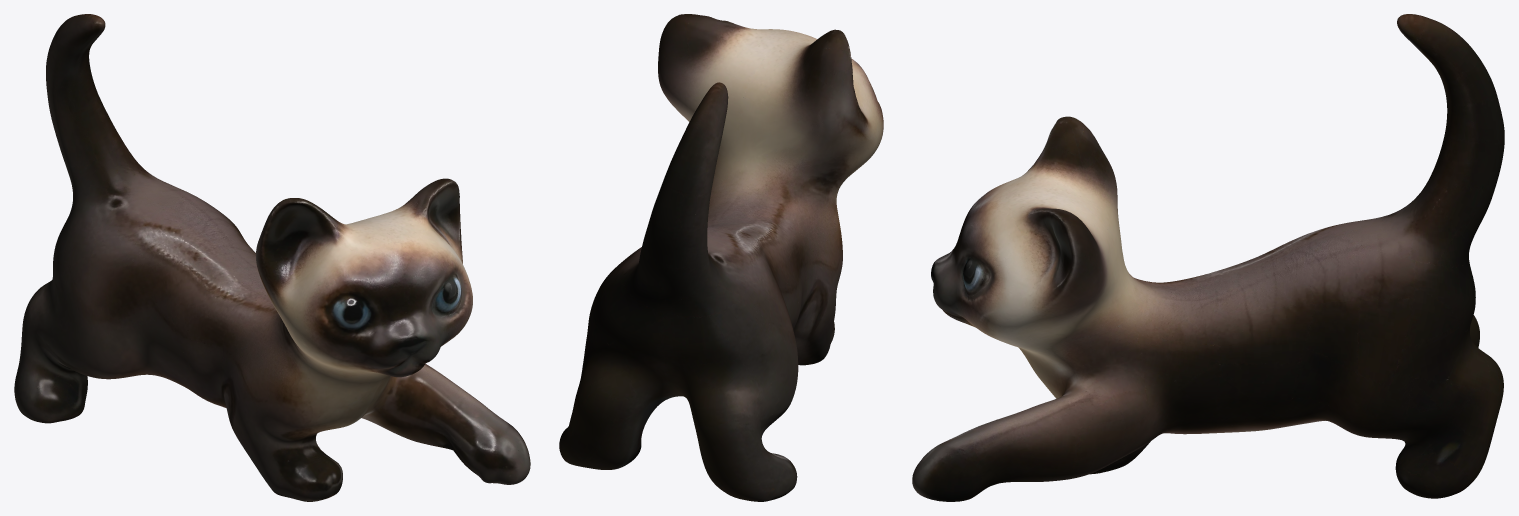
File: Meshy_AI_Blue_Eyed_Ceramic_Cat_0521062327_texture.glb
3 views of the same model, side by side, from view 1: azimuth 30°, elevation 25°; view 2: azimuth 150°, elevation 25°; view 3: azimuth 270°, elevation 25° (orthographic). The views are drawn at different scales.
Bounding box in the file's own units: 1.15 × 1.48 × 1.9.
Materials: 1 (1 with a texture image).
